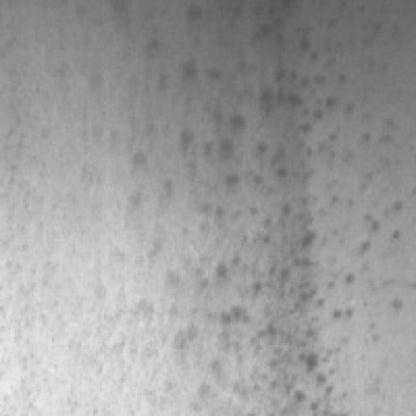pitted_surface: (131, 0, 397, 414)
